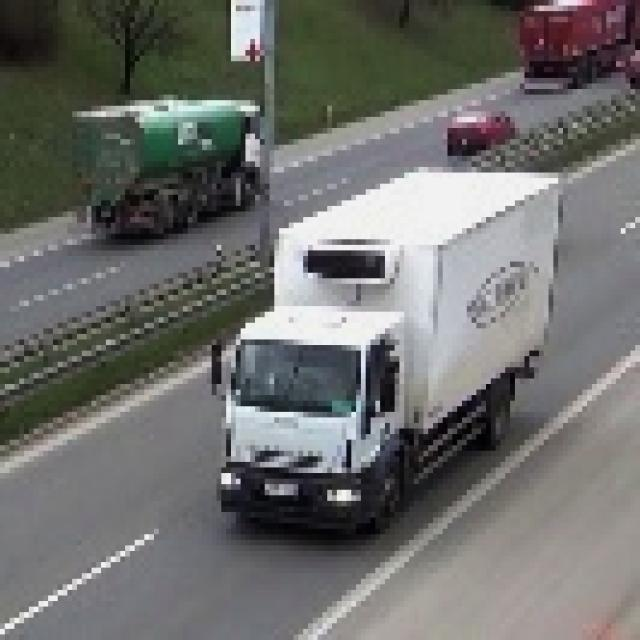truck: (208, 157, 559, 530), (64, 84, 266, 246)
